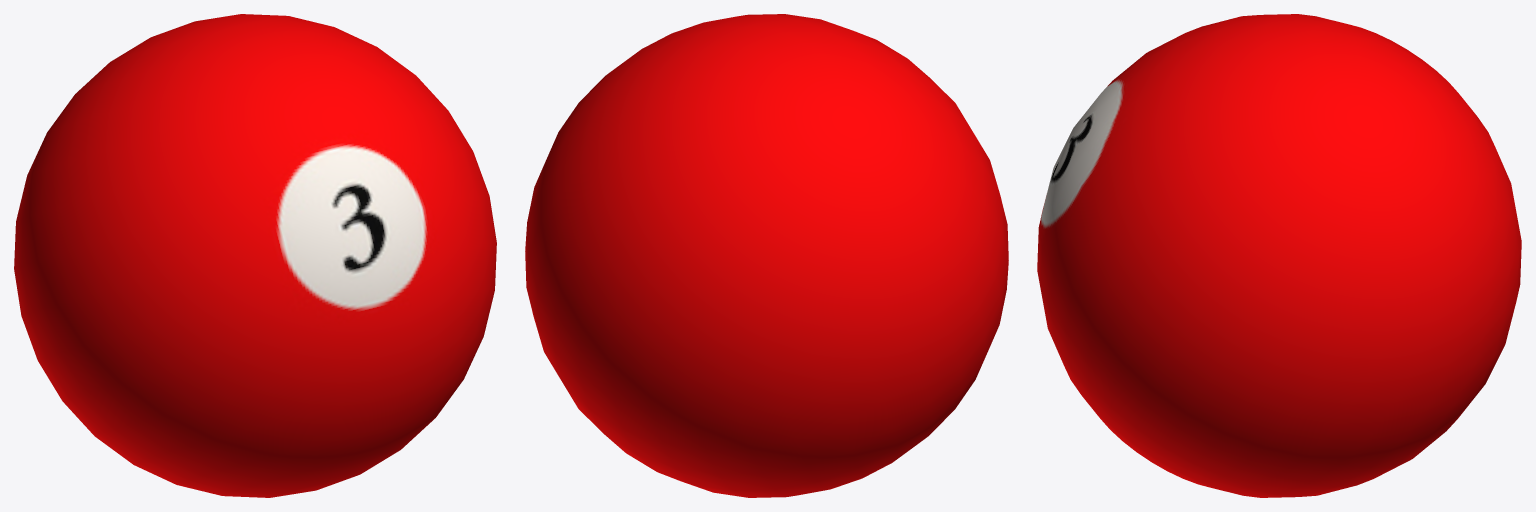
File: red.glb
The picture shows the model from 3 angles, left to right: view 1: azimuth 30°, elevation 25°; view 2: azimuth 150°, elevation 25°; view 3: azimuth 270°, elevation 25°; orthographic projection.
Parts seen in each view (by area): view 1: Ball3_03 - Default_0; view 2: Ball3_03 - Default_0; view 3: Ball3_03 - Default_0.
Boxes of the visible parts, x1,y1,x2,y2 form: Ball3_03 - Default_0: (14, 14, 496, 497); Ball3_03 - Default_0: (525, 14, 1008, 497); Ball3_03 - Default_0: (1037, 14, 1521, 497).
Bounding box in the file's own units: 37.86 × 37.78 × 37.78.
1 material, 1 textured.
